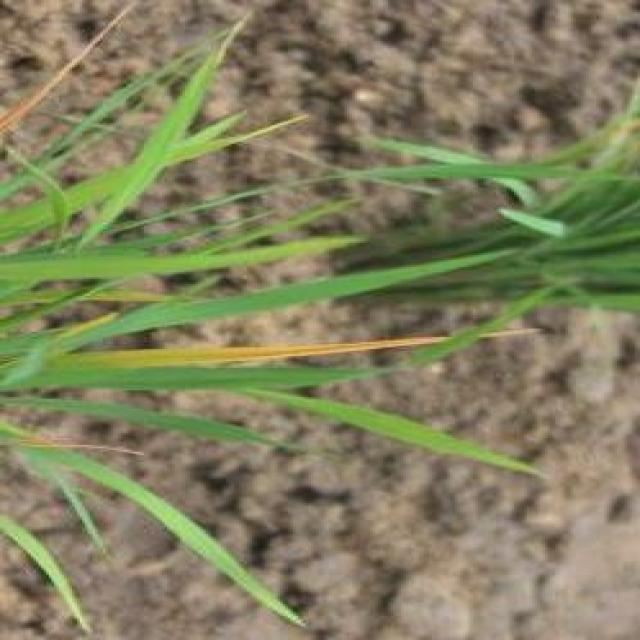Rice Tungro: (142, 335, 444, 355), (8, 50, 52, 130)
